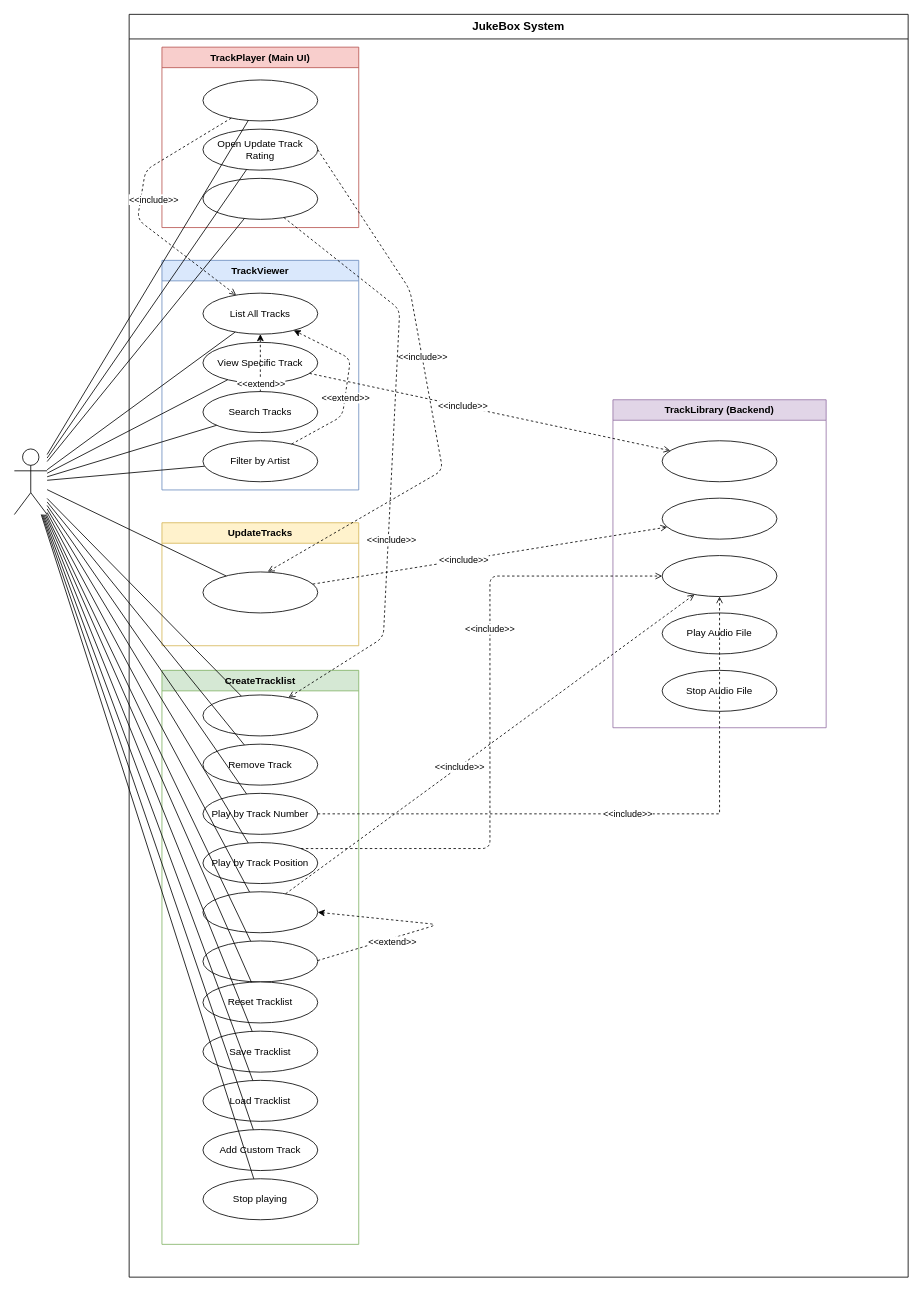
Image size: 923x1292. Some labels were removed from this diagram. The centre of each missing label's shape, as x and y in pixels:
Add Track to Tracklist: (x=260, y=715)
Get Track Info: (x=719, y=461)
Manage Ratings: (x=719, y=518)
Open Manage Tracklist: (x=260, y=198)
Open Manage Tracks: (x=260, y=100)
Play Tracklist: (x=260, y=912)
Shuffle Play: (x=260, y=961)
Track Play Count: (x=719, y=576)
Update Track Rating: (x=260, y=592)
User: (x=30, y=481)
